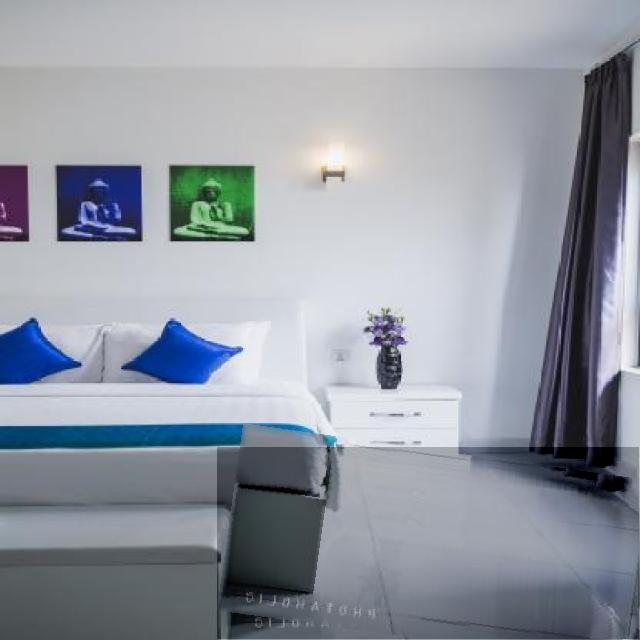floor: (217, 447, 640, 640)
